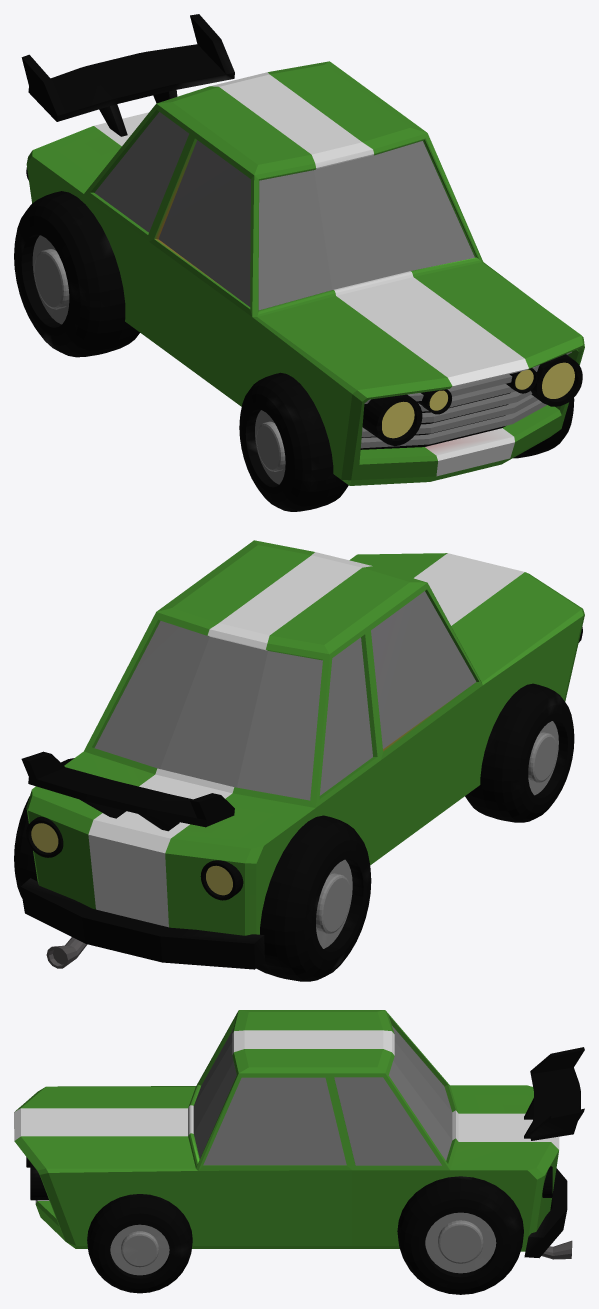
Rendered from CarroVerde.fbx.
3 renders of one model, top to bottom at view 1: azimuth 30°, elevation 25°; view 2: azimuth 150°, elevation 25°; view 3: azimuth 270°, elevation 25°, orthographic. The views are drawn at different scales.
Parts seen in each view (by area): view 1: Carro.Verde; view 2: Carro.Verde; view 3: Carro.Verde.
Boxes of the visible parts, bbox=[...] form: Carro.Verde: bbox=[14, 14, 584, 511]; Carro.Verde: bbox=[14, 540, 584, 981]; Carro.Verde: bbox=[14, 1010, 584, 1294].
Bounding box in the file's own units: 2.54 × 2.3 × 5.7.
